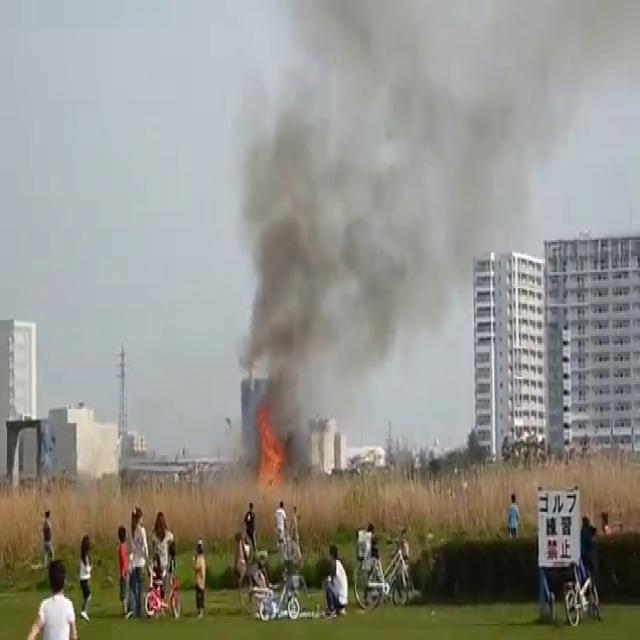Fire: (248, 403, 293, 495)
Smoke: (228, 1, 588, 463)
